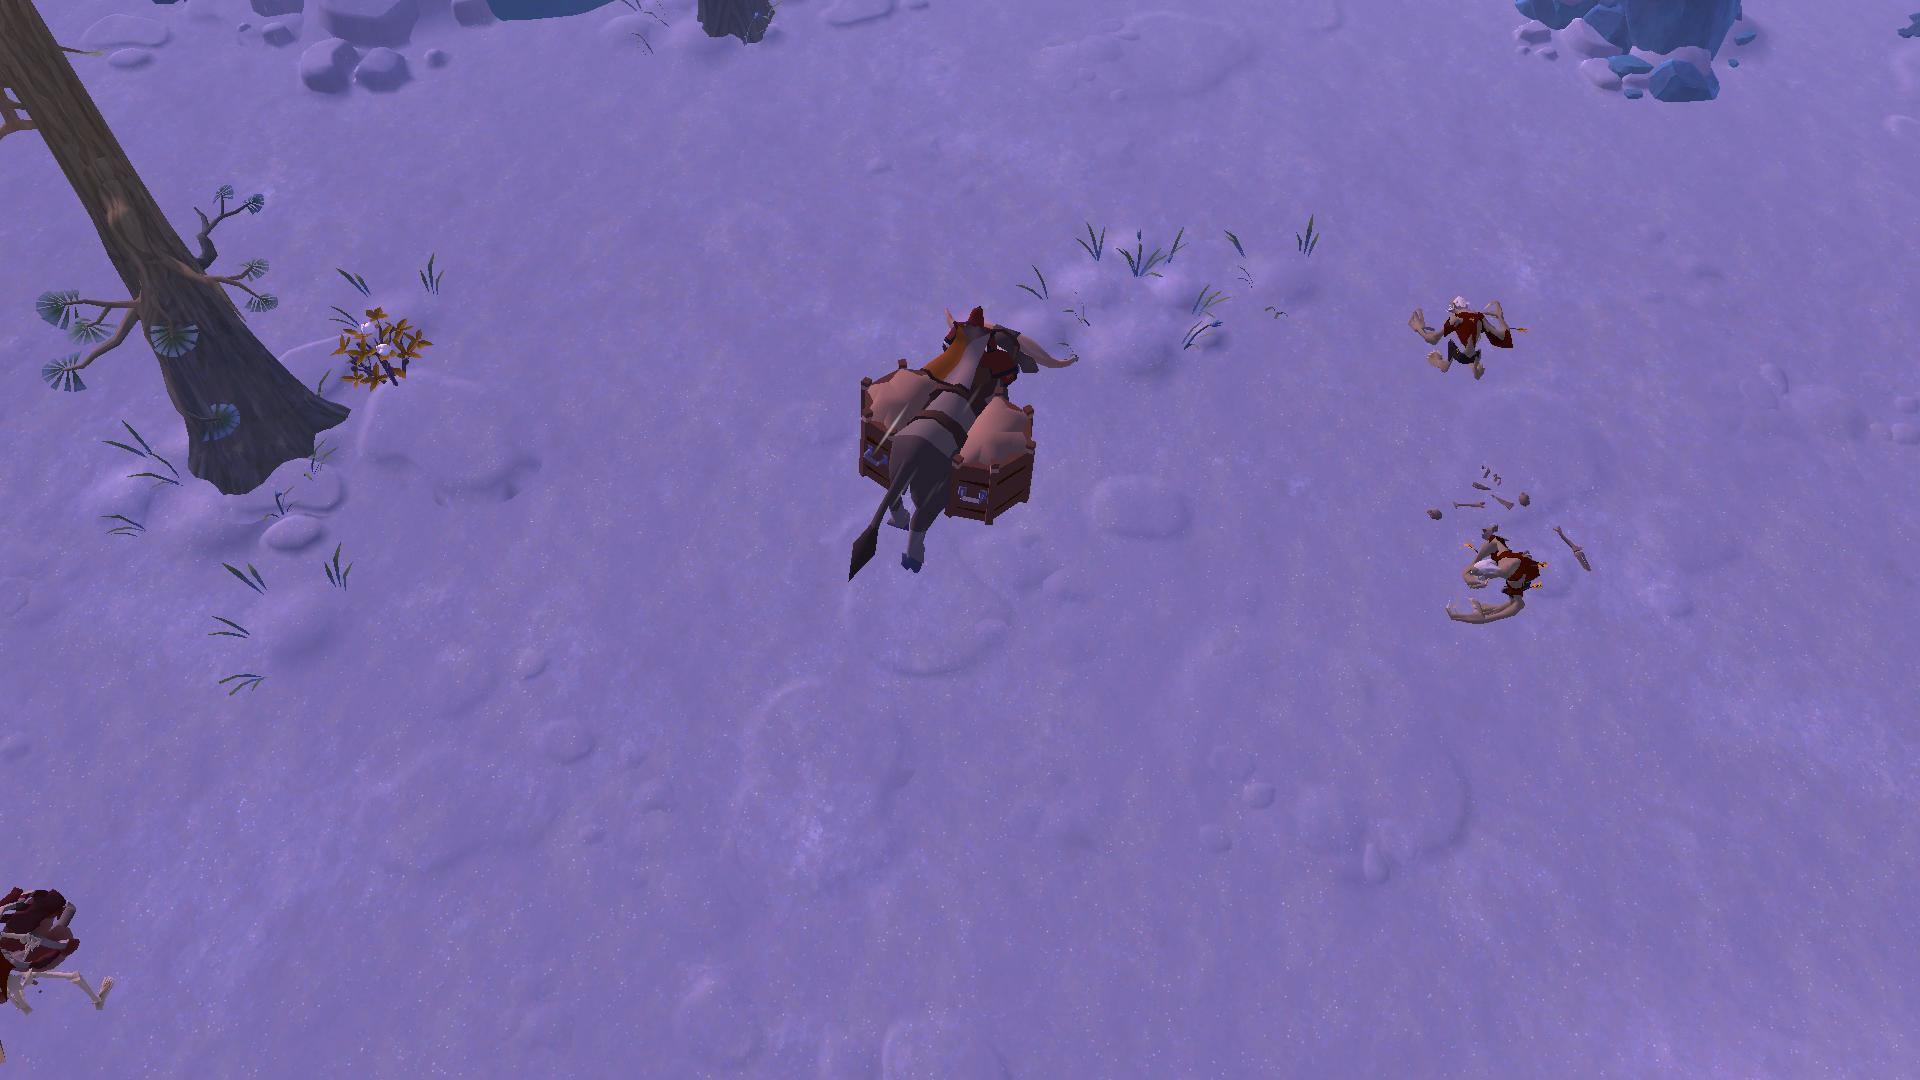enemy_factionUndead: (1403, 291, 1515, 389), (1440, 518, 1539, 626)
